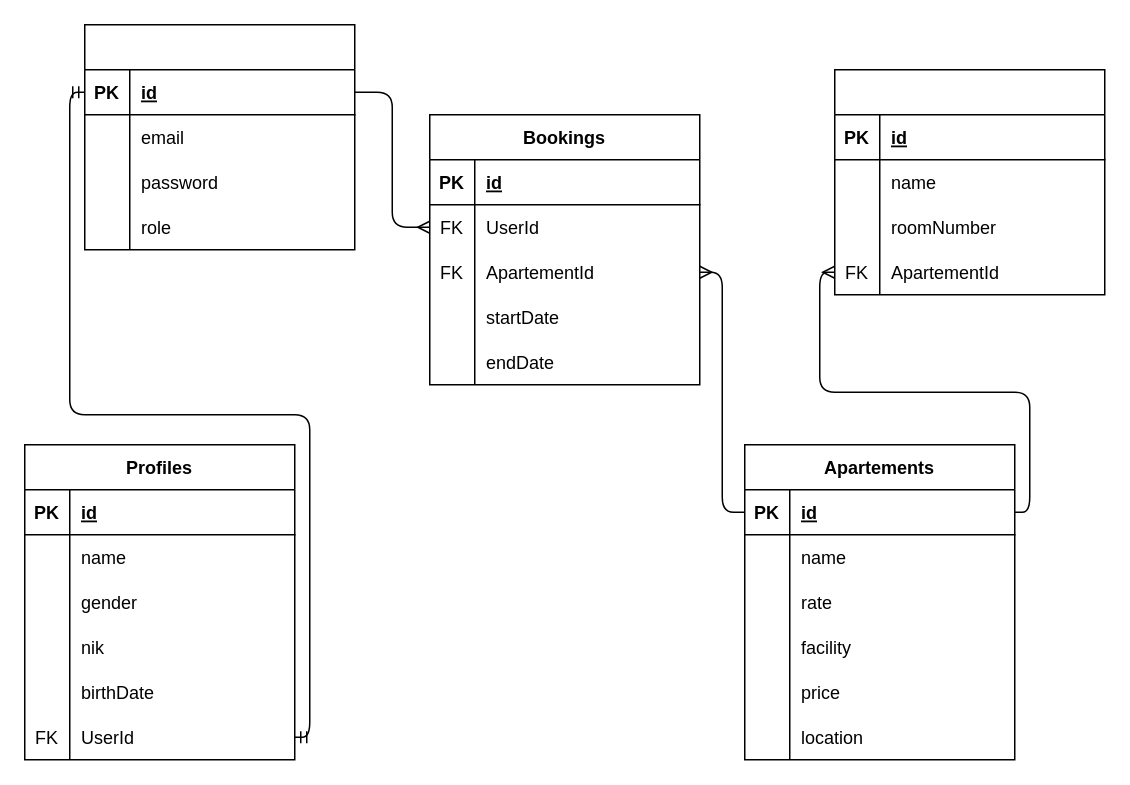
The diagram is 1130 pixels wide and 785 high, and some of its shapes have lost their labels. Each missing label, with the box of its shape:
Rooms: (833, 68, 1105, 295)
Users: (83, 23, 355, 250)
